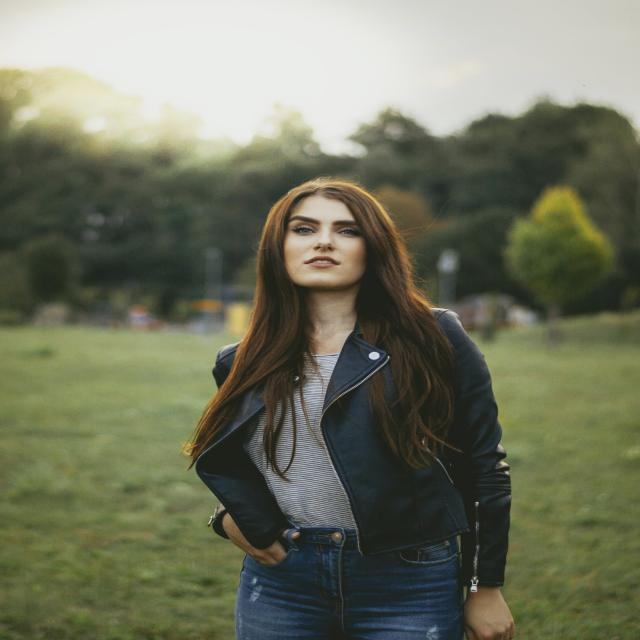adult: (173, 173, 530, 640)
